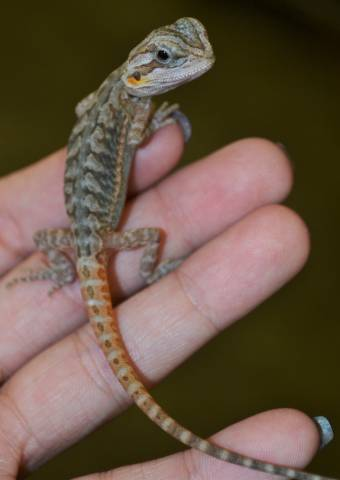bearded: (7, 17, 324, 480)
